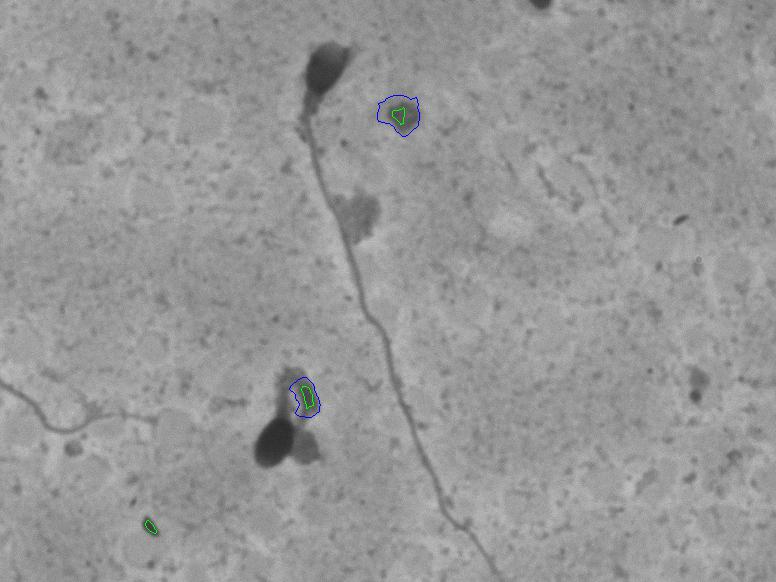Abnormal: (219, 353, 332, 487)
Normal: (265, 13, 505, 571)
